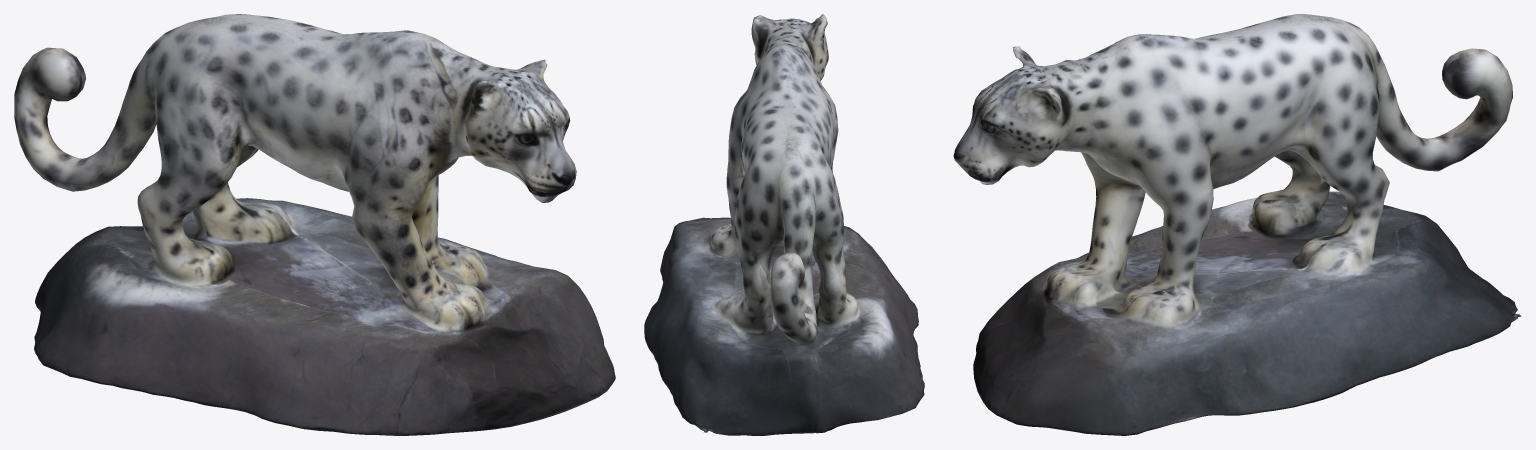
3 renders of one model, left to right at view 1: azimuth 30°, elevation 25°; view 2: azimuth 150°, elevation 25°; view 3: azimuth 270°, elevation 25°, orthographic. The views are drawn at different scales.
Size of the model in its own units: 1.71 by 1.26 by 2.
Materials: 1 (1 with a texture image).
